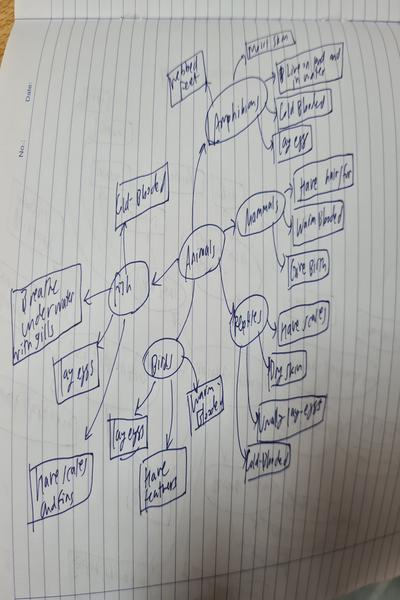arrow: (85, 316, 123, 442), (234, 345, 247, 463), (191, 143, 207, 230), (243, 343, 256, 428), (179, 280, 195, 344), (215, 266, 234, 317), (135, 382, 161, 416), (269, 225, 288, 271), (151, 258, 177, 289), (117, 223, 133, 265), (181, 354, 201, 387), (166, 379, 175, 447), (97, 312, 114, 347), (256, 115, 271, 151), (257, 336, 270, 373), (83, 288, 111, 305), (281, 212, 294, 236), (233, 54, 243, 82), (264, 101, 278, 120), (223, 220, 238, 236), (282, 184, 294, 199), (205, 82, 214, 101), (266, 321, 277, 336), (264, 73, 275, 84)
idea: (9, 263, 83, 366), (26, 453, 95, 525), (113, 163, 172, 228), (275, 42, 344, 93), (257, 393, 328, 442), (137, 448, 188, 513), (293, 152, 356, 201), (51, 342, 100, 404), (275, 301, 331, 347), (166, 48, 205, 110), (292, 201, 345, 245), (186, 377, 224, 431), (244, 442, 294, 482), (106, 415, 151, 459), (276, 89, 334, 122), (286, 249, 330, 287), (272, 126, 314, 164), (243, 29, 294, 59), (269, 350, 309, 388)
topic: (204, 77, 269, 144), (180, 225, 224, 277), (110, 261, 151, 315), (236, 190, 286, 234), (230, 295, 268, 347), (143, 339, 187, 379)
